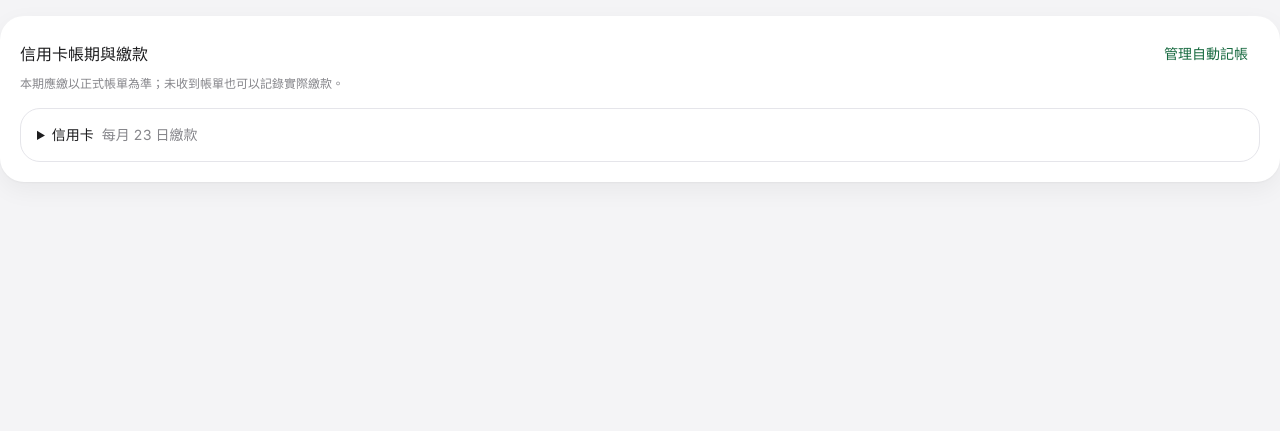
Test case: shows the remaining formal statement and partial payment status
This screenshot has width=1280, height=431.
Click the text "信用卡". click: (73, 134)
box: [52,126,94,143]
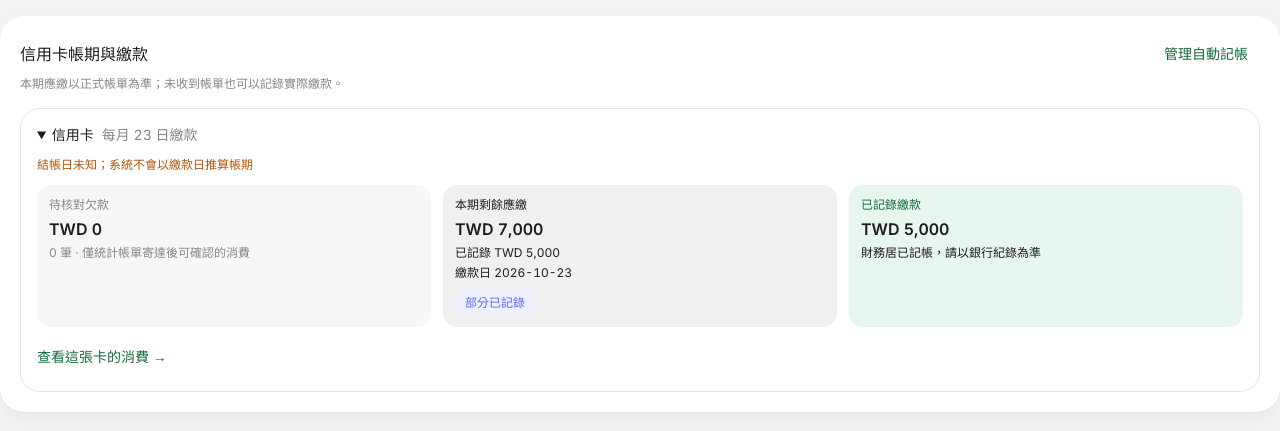
Expected: the text "TWD 7,000" is shown, [455,219,543,239]
Expected: the text "部分已記錄" is shown, [455,291,535,315]
